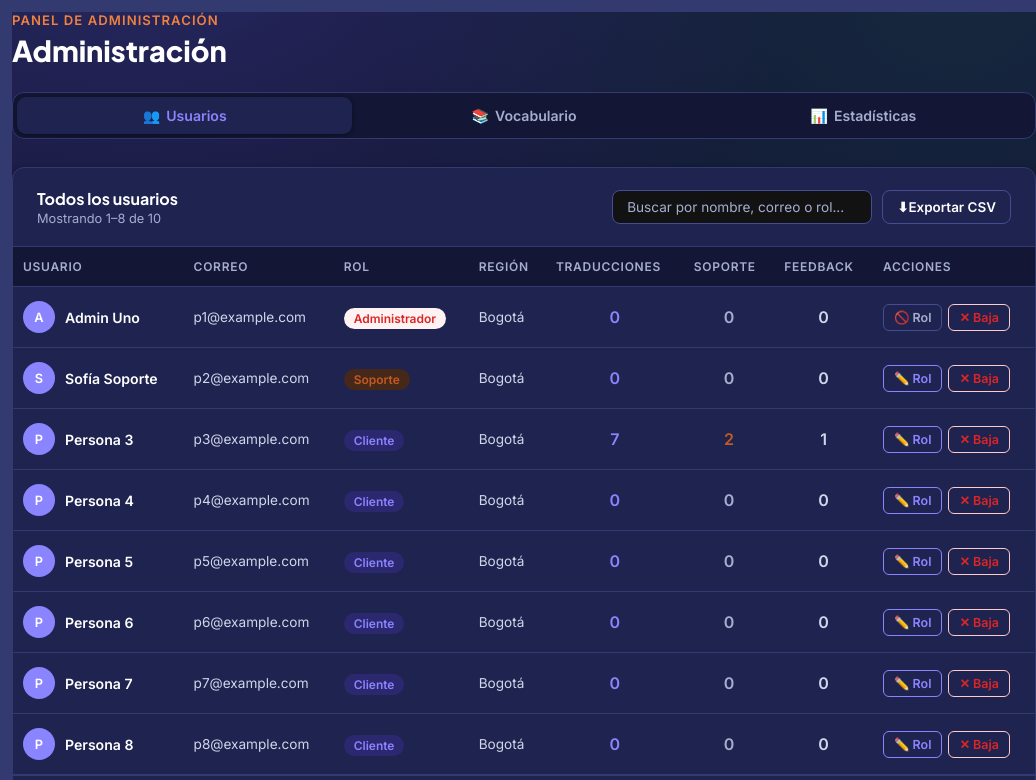
Test: Administración · Usuarios › should deactivate a user and mark them as inactive
Expected: the text "Mostrando 1–8 de 10" is shown, left=37, top=211, right=178, bottom=226
Step 1. Click the button titled "Desactivar usuario" in the row of "Persona 4" → coordinates (979, 500), box left=948, top=486, right=1010, bottom=514
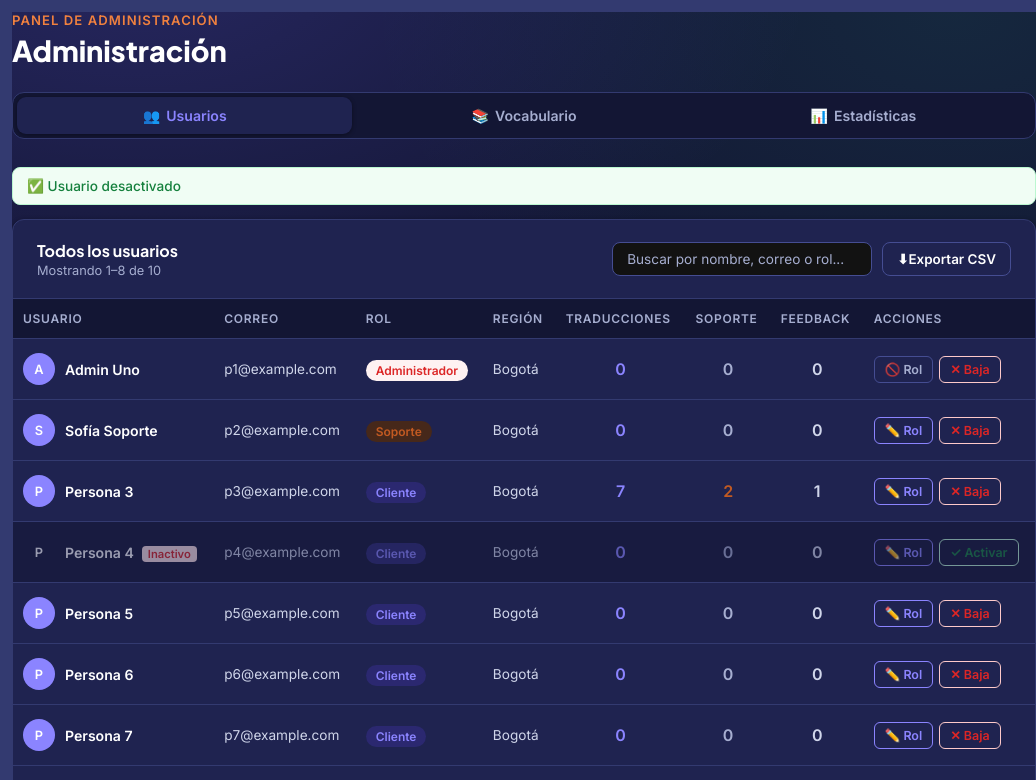
Expected: the button titled "Activar usuario" is shown, left=939, top=538, right=1018, bottom=566
Expected: the text "✅ Usuario desactivado" is shown, left=12, top=167, right=1035, bottom=205
Expected: the text "Inactivo" is shown, left=142, top=546, right=197, bottom=562
